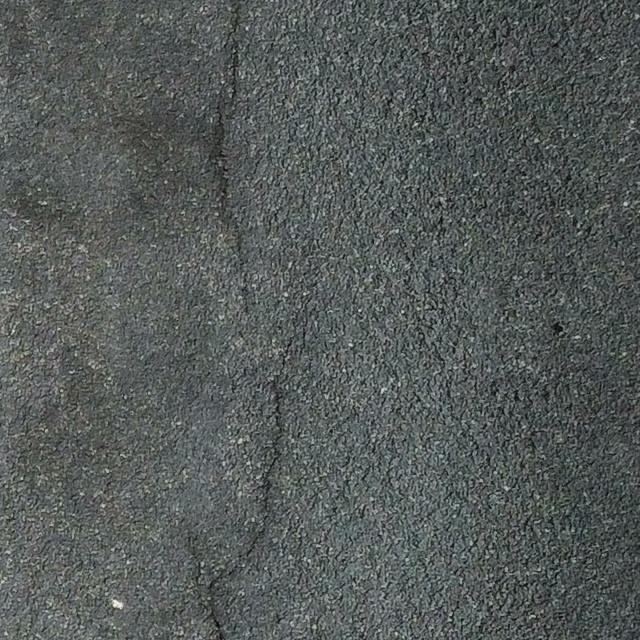LongitudinalCrack: (199, 344, 300, 639), (214, 2, 250, 259)
